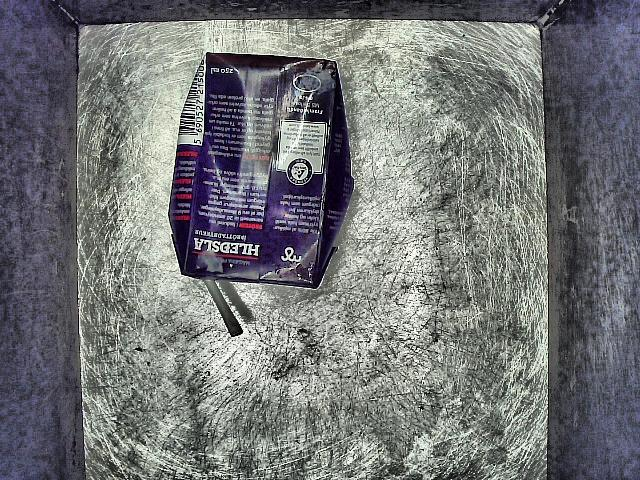Paper: (166, 43, 359, 346)
